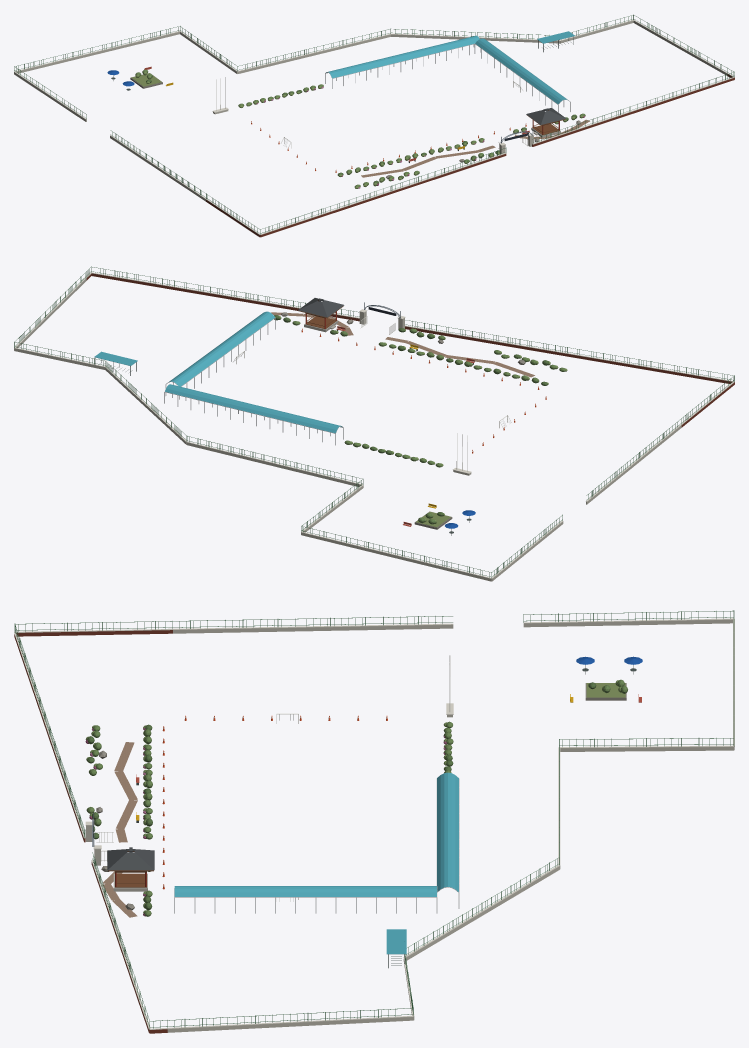
The picture shows the model from 3 angles, top to bottom: view 1: azimuth 30°, elevation 25°; view 2: azimuth 150°, elevation 25°; view 3: azimuth 270°, elevation 25°; orthographic projection. The views are drawn at different scales.
Parts seen in each view (by area): view 1: prop_boundary-fence, prop_front-arcade, prop_garden, prop_flowerbeds, prop_maehwa-pavilion; view 2: prop_boundary-fence, prop_front-arcade, prop_flowerbeds, prop_garden, prop_maehwa-pavilion; view 3: prop_boundary-fence, prop_front-arcade, prop_garden, prop_flowerbeds, prop_maehwa-pavilion.
Part boxes in pixels (x1=…): prop_boundary-fence: x1=14, y1=14, x2=734, y2=237; prop_front-arcade: x1=325, y1=35, x2=570, y2=112; prop_garden: x1=107, y1=66, x2=589, y2=179; prop_flowerbeds: x1=238, y1=84, x2=585, y2=188; prop_maehwa-pavilion: x1=526, y1=108, x2=566, y2=137; prop_boundary-fence: x1=14, y1=266, x2=734, y2=581; prop_front-arcade: x1=164, y1=311, x2=343, y2=445; prop_flowerbeds: x1=274, y1=315, x2=567, y2=467; prop_garden: x1=271, y1=312, x2=534, y2=535; prop_maehwa-pavilion: x1=298, y1=298, x2=344, y2=332; prop_boundary-fence: x1=14, y1=610, x2=734, y2=1033; prop_front-arcade: x1=174, y1=772, x2=459, y2=913; prop_garden: x1=96, y1=656, x2=642, y2=917; prop_flowerbeds: x1=85, y1=721, x2=453, y2=916; prop_maehwa-pavilion: x1=107, y1=847, x2=154, y2=891.
Bounding box in the file's own units: 142 × 8.72 × 105.
Materials: 31 (1 with a texture image).
